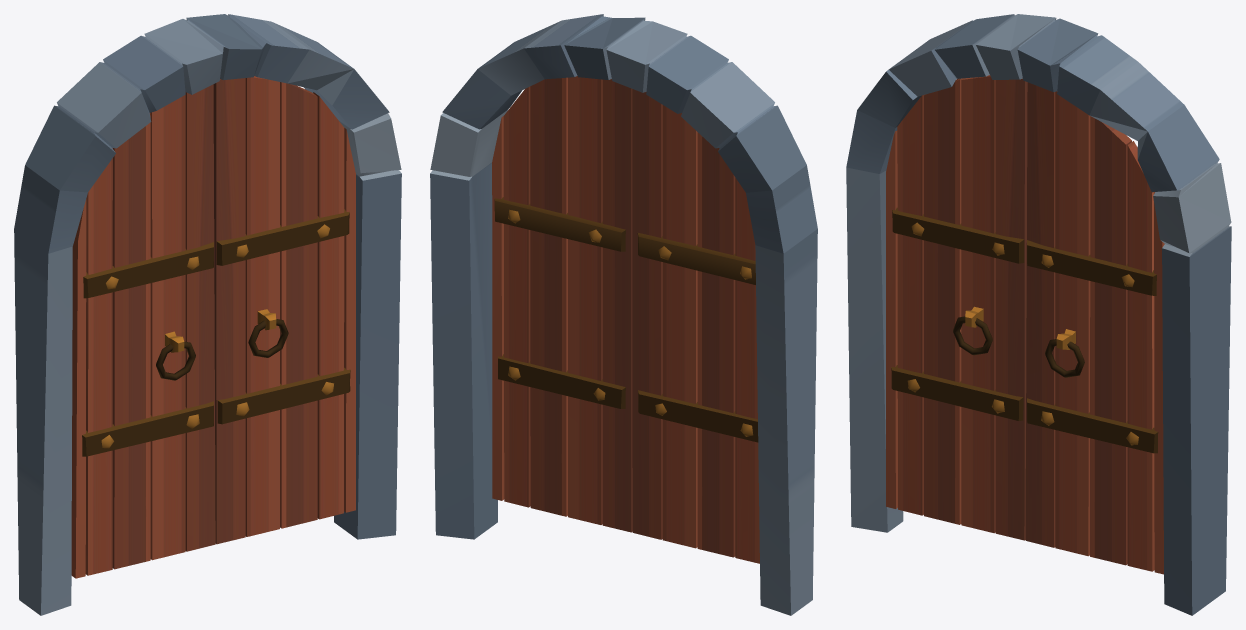
File: Castle-gate-closed.fbx
3 views of the same model, side by side, from view 1: azimuth 30°, elevation 25°; view 2: azimuth 150°, elevation 25°; view 3: azimuth 330°, elevation 25° (orthographic).
Parts seen in each view (by area): view 1: Castle-gate-closed; view 2: Castle-gate-closed; view 3: Castle-gate-closed.
Boxes of the visible parts, box(x1,y1,x2,y2) form: Castle-gate-closed: box(14, 14, 401, 615); Castle-gate-closed: box(430, 14, 817, 615); Castle-gate-closed: box(846, 14, 1231, 615).
Bounding box in the file's own units: 2.76 × 3.99 × 0.5956.
